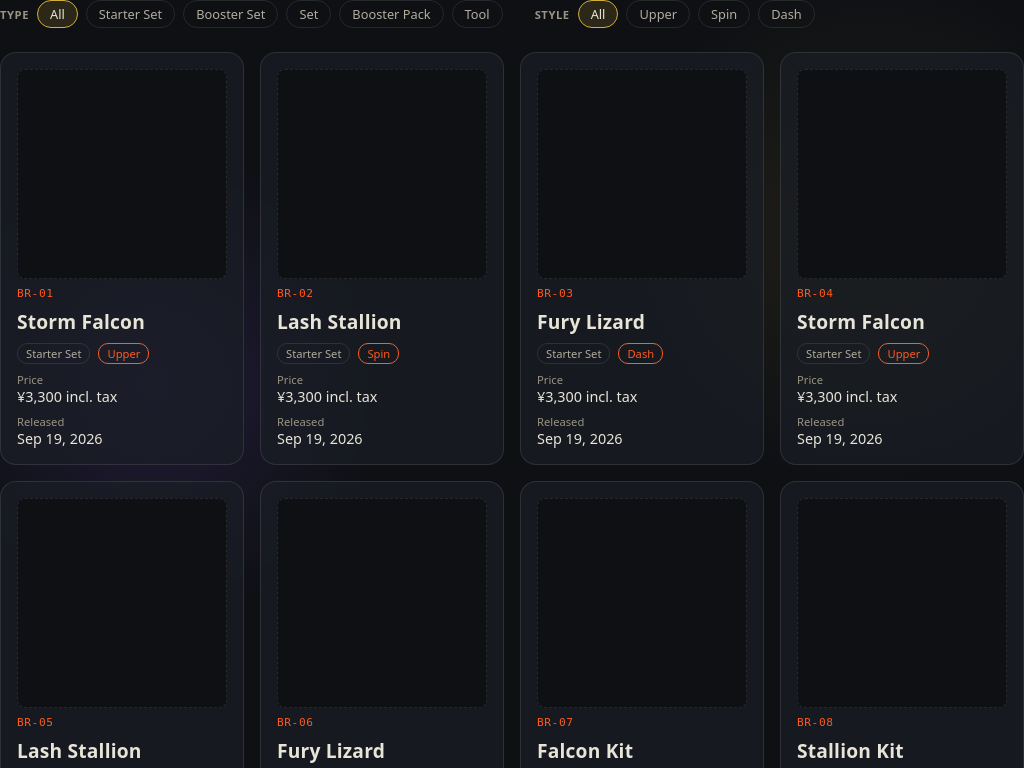
Test: ProductCatalog › shows an empty state when nothing matches
Click the button "Tool". click: (477, 14)
box: [452,0,503,28]
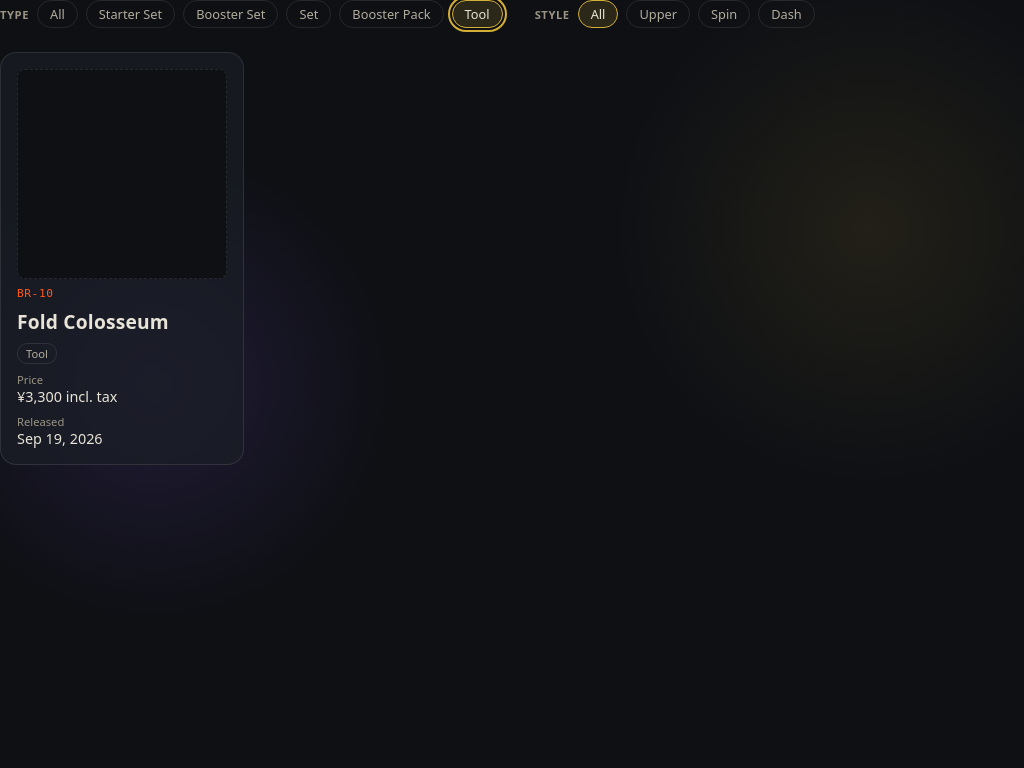
Click the button "Dash". click: (786, 14)
box: [758,0,815,28]
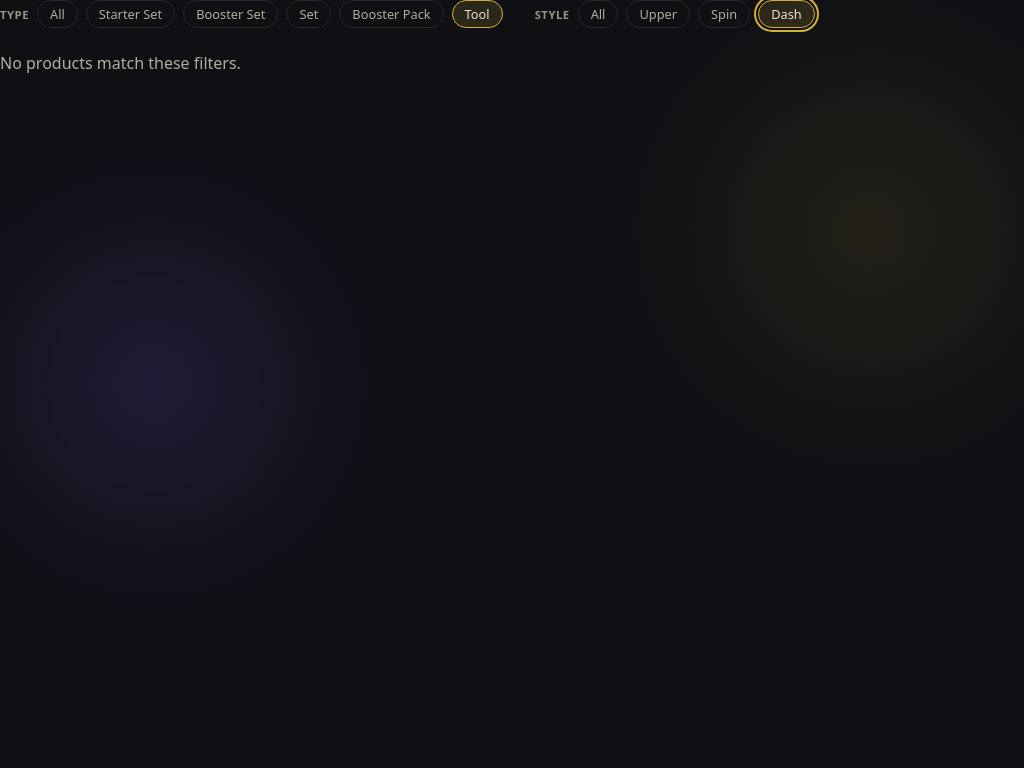
Expected: the text "No products match these filters." is shown, [0,52,241,74]
